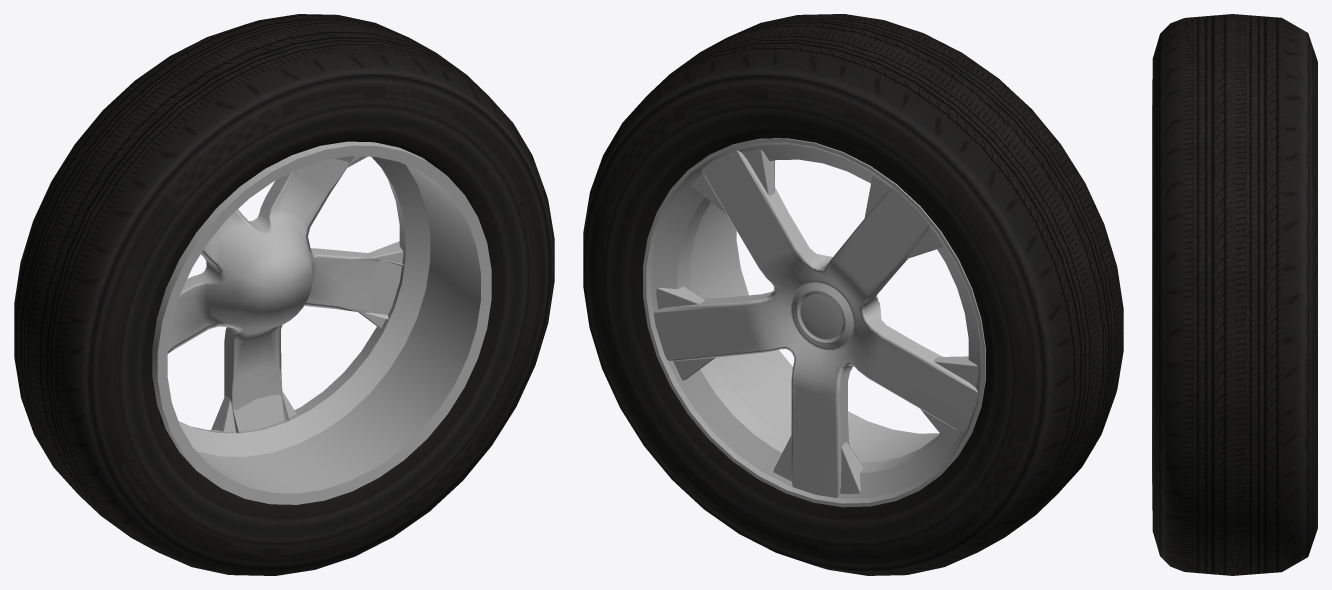
3 renders of one model, left to right at view 1: azimuth 30°, elevation 25°; view 2: azimuth 150°, elevation 25°; view 3: azimuth 270°, elevation 25°, orthographic.
Visible parts, largest first — view 1: Y175_18_901B_L_2_DM_Y175_18_901B_L, Y175_18_901B_L_Y175_18_901B_L_1_DaS; view 2: Y175_18_901B_L_2_DM_Y175_18_901B_L, Y175_18_901B_L_Y175_18_901B_L_1_DaS; view 3: Y175_18_901B_L_2_DM_Y175_18_901B_L, Y175_18_901B_L_Y175_18_901B_L_1_DaS.
Part boxes in pixels (x1,y1,x2,y2): Y175_18_901B_L_2_DM_Y175_18_901B_L: (14,14,554,575); Y175_18_901B_L_Y175_18_901B_L_1_DaS: (152,141,491,504); Y175_18_901B_L_2_DM_Y175_18_901B_L: (583,14,1123,575); Y175_18_901B_L_Y175_18_901B_L_1_DaS: (643,138,985,507); Y175_18_901B_L_2_DM_Y175_18_901B_L: (1152,14,1317,575); Y175_18_901B_L_Y175_18_901B_L_1_DaS: (1152,106,1152,483).
Bounding box in the file's own units: 72 × 72.27 × 21.27.
